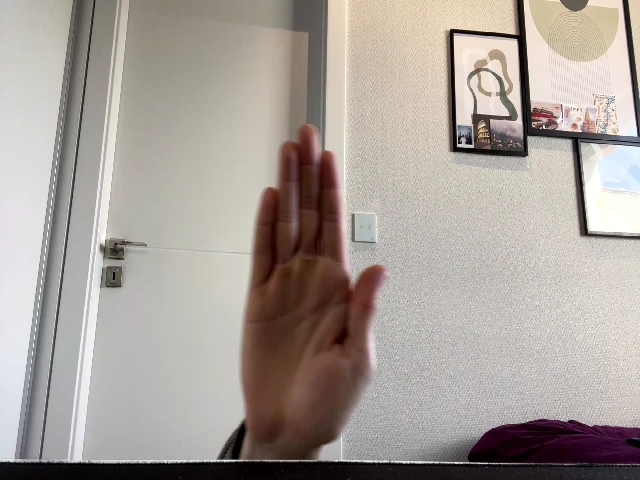B: (241, 124, 384, 440)
